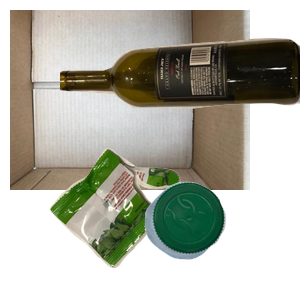cardboard: (10, 10, 250, 190)
glass: (60, 36, 300, 147)
plastic: (142, 179, 300, 300)
trash: (47, 146, 220, 300)
